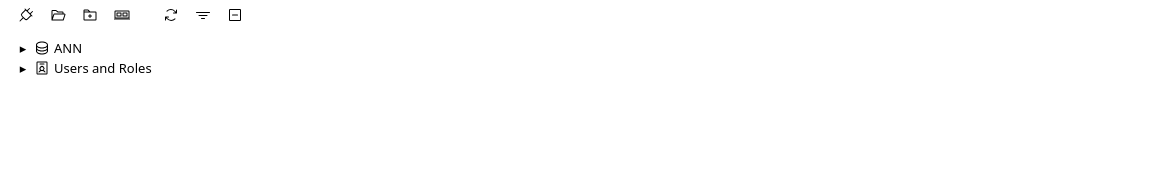
Scenario: the catalog's tree › filters by name and searches definitions on the server [DESIGN] D33
This screenshot has width=1176, height=187.
Later steps or results of the test are not shown.
Click the button named "Filter". click: point(203, 15)
box: left=189, top=4, right=217, bottom=26
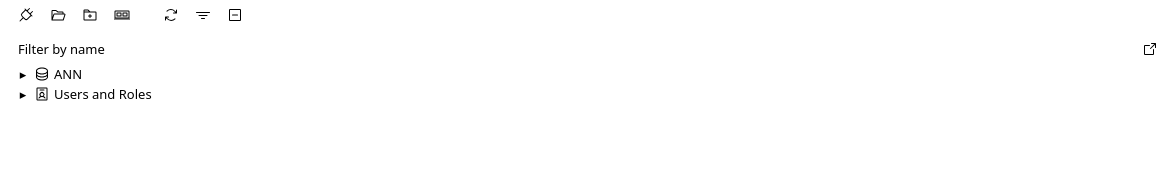
Type "pay" into the search field named "Search the catalog". click: point(572, 49)
box: left=12, top=38, right=1132, bottom=60
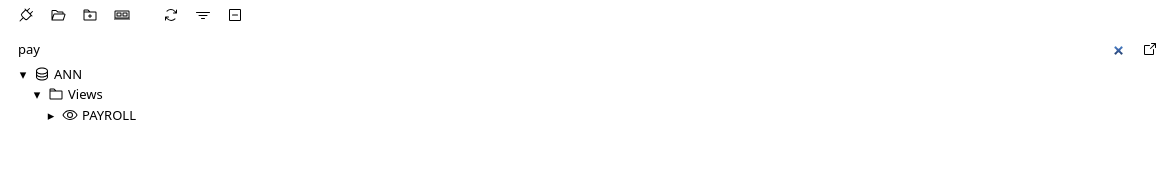
Expected: the text "STAFF" is not shown
Now the text "PAYROLL" is shown, box left=82, top=106, right=136, bottom=124
Now the text "Users and Roles" is gone
Click the button named "Search definitions too". click: point(1150, 49)
box: left=1136, top=38, right=1164, bottom=60
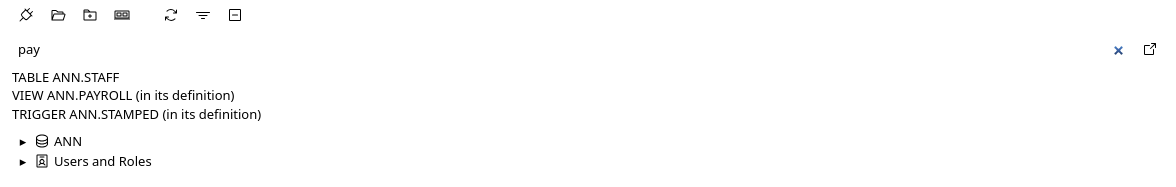
Now the text "Users and Roles" is shown, box left=54, top=152, right=152, bottom=170
Now the button "VIEW ANN.PAYROLL (in its definition)" is shown, box left=12, top=86, right=234, bottom=105
